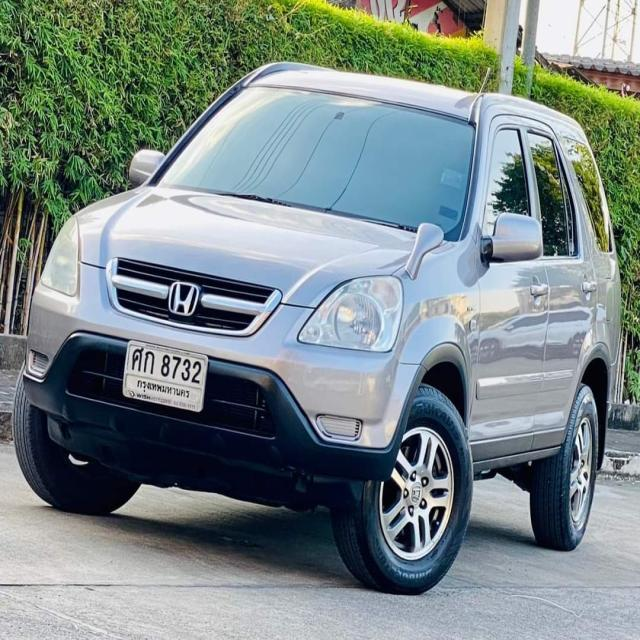license_plate: (124, 336, 207, 415)
